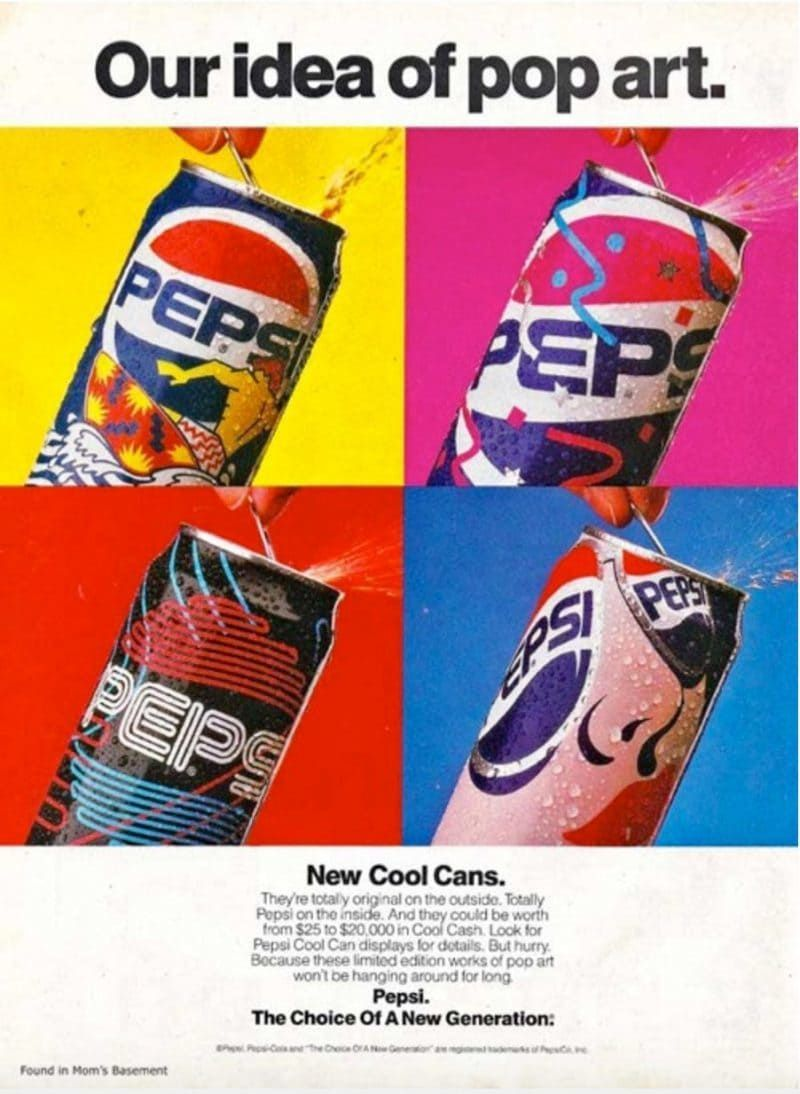can: (28, 518, 348, 852)
